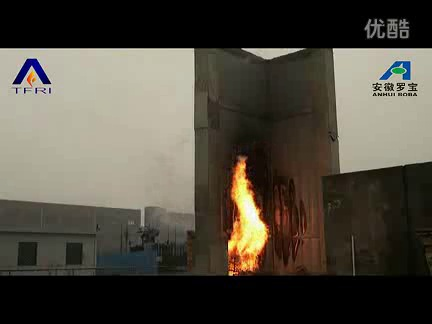fire: (219, 154, 273, 275)
